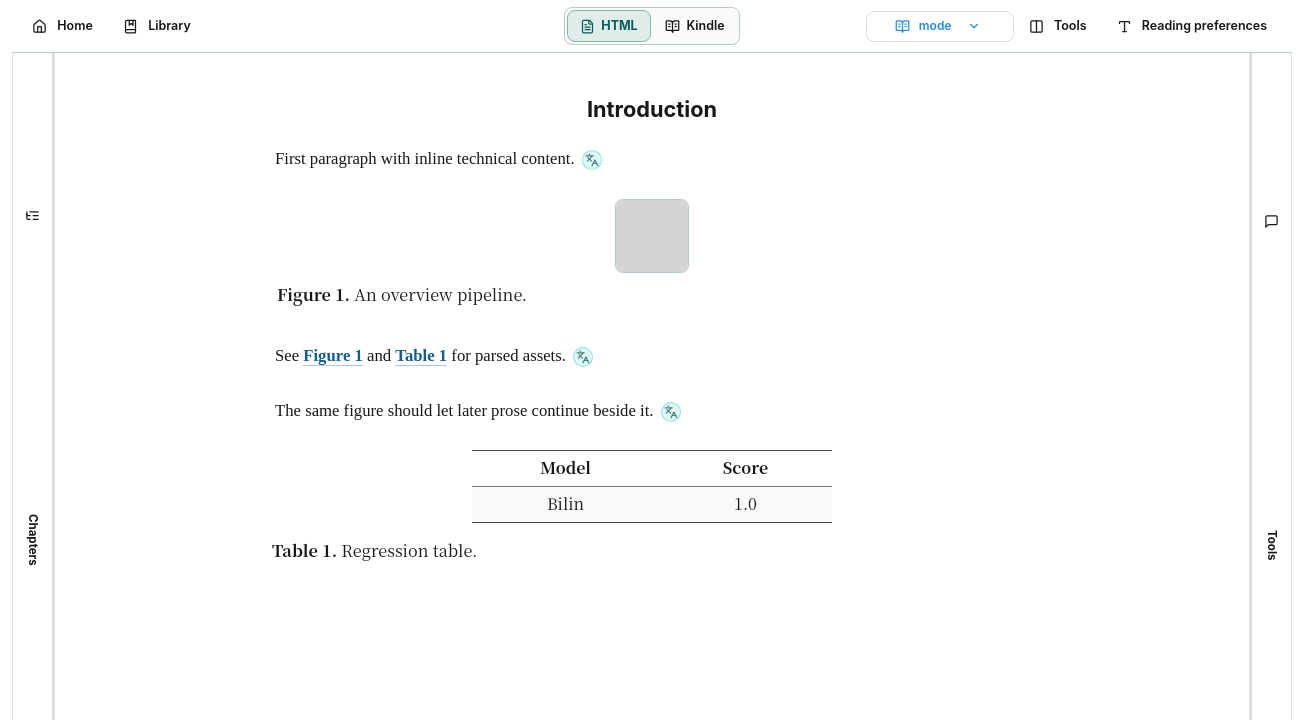
Test: Bilin web shell › closes reader overlay panels with Escape
This screenshot has width=1304, height=720.
Click the button named "Reader workspace".
click(1060, 26)  # box [1019,10,1102,42]
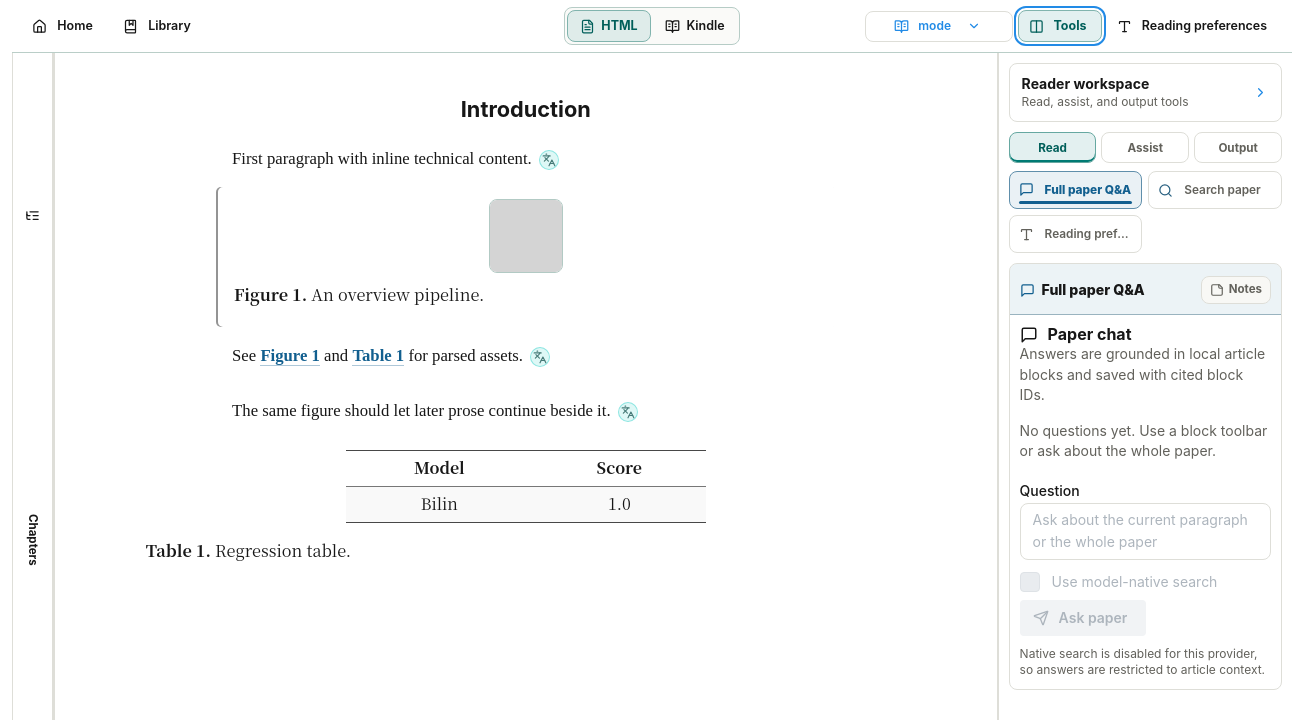
Click the button "Search paper".
click(1215, 190)  # box [1148,171,1282,209]
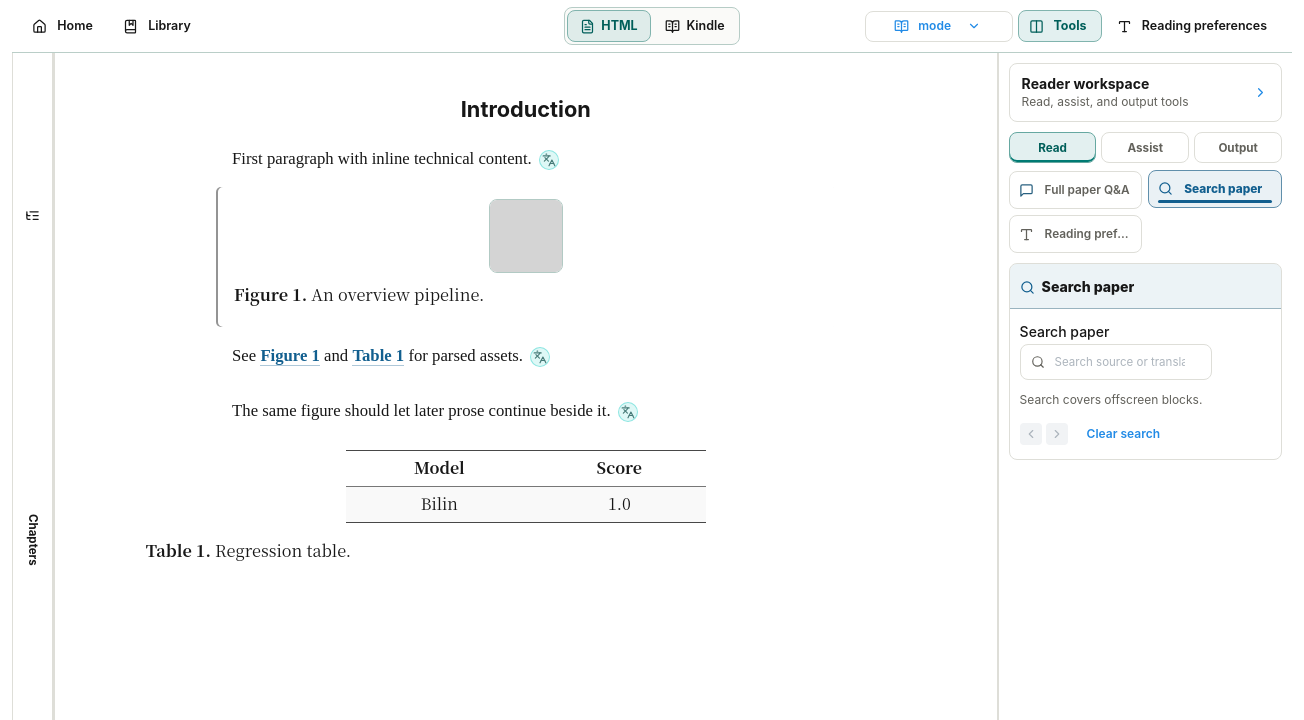
Check: the field with placeholder "Search source or translation" is shown, box [1020,344,1212,380]
Press Escape
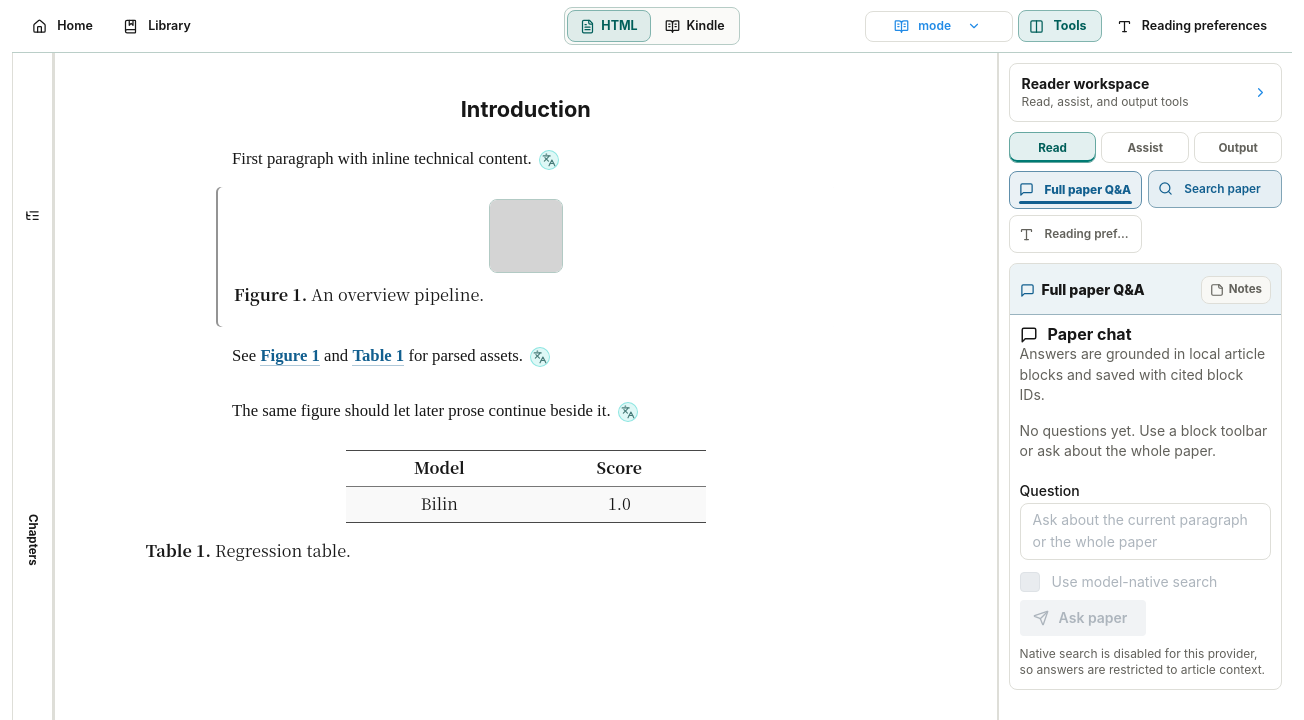
Check: the field with placeholder "Search source or translation" is not shown
Check: the text box labelled "Question" is shown, box [1020,503,1271,560]
